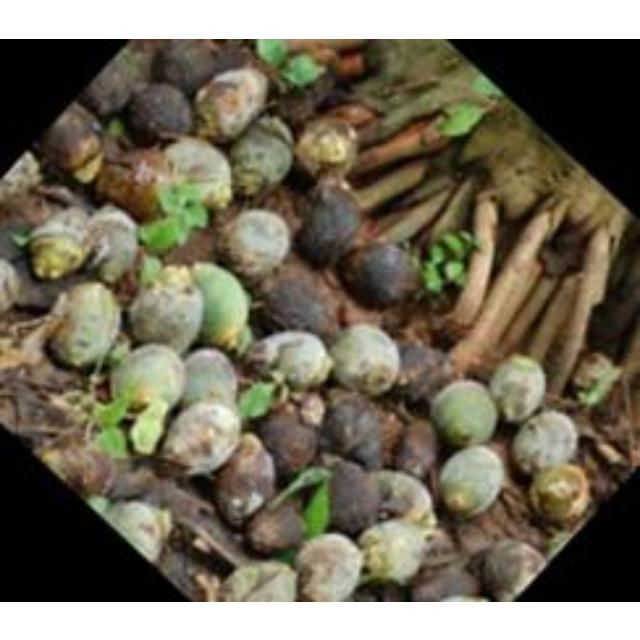damaged: (162, 400, 242, 474), (297, 183, 363, 267), (327, 322, 401, 396), (218, 208, 292, 280), (249, 330, 331, 390), (429, 380, 499, 448), (260, 406, 320, 479), (391, 338, 452, 402), (179, 348, 239, 410), (392, 417, 440, 479)
